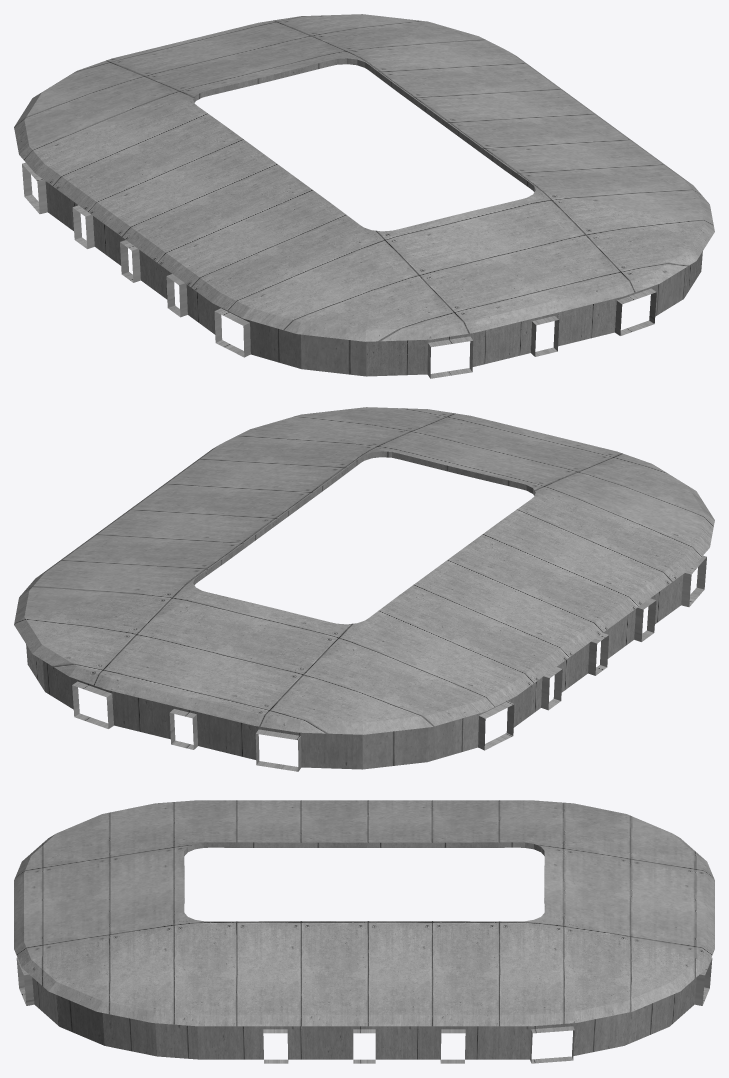
File: Roof.FBX
3 views of the same model, one above another, from view 1: azimuth 30°, elevation 25°; view 2: azimuth 150°, elevation 25°; view 3: azimuth 270°, elevation 25° (orthographic). The views are drawn at different scales.
Visible parts, largest first — view 1: Roof; view 2: Roof; view 3: Roof.
Part boxes in pixels (left/top/right/bottom): Roof: left=14, top=14, right=714, bottom=378; Roof: left=14, top=407, right=714, bottom=771; Roof: left=14, top=800, right=714, bottom=1063.
Size of the model in its own units: 80.54 by 12.19 by 107.
